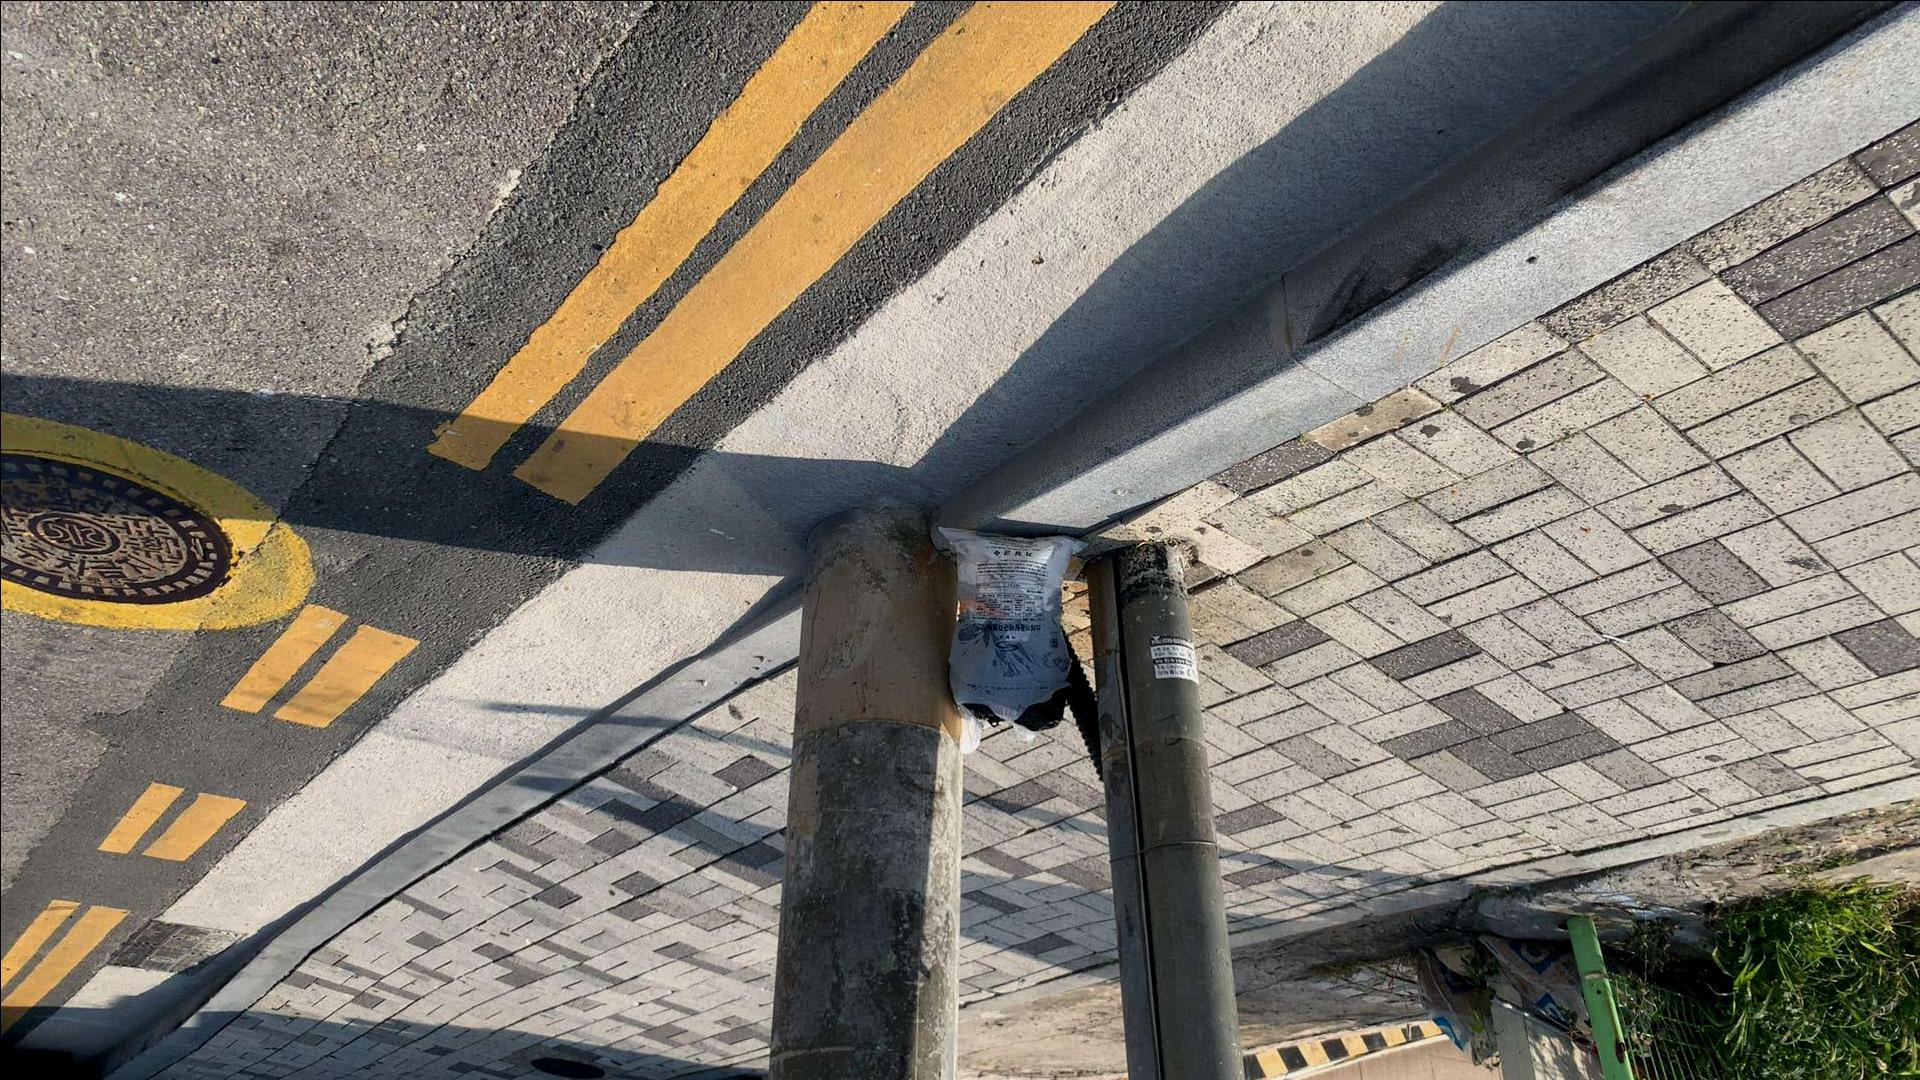white_bag: (916, 509, 1088, 740)
